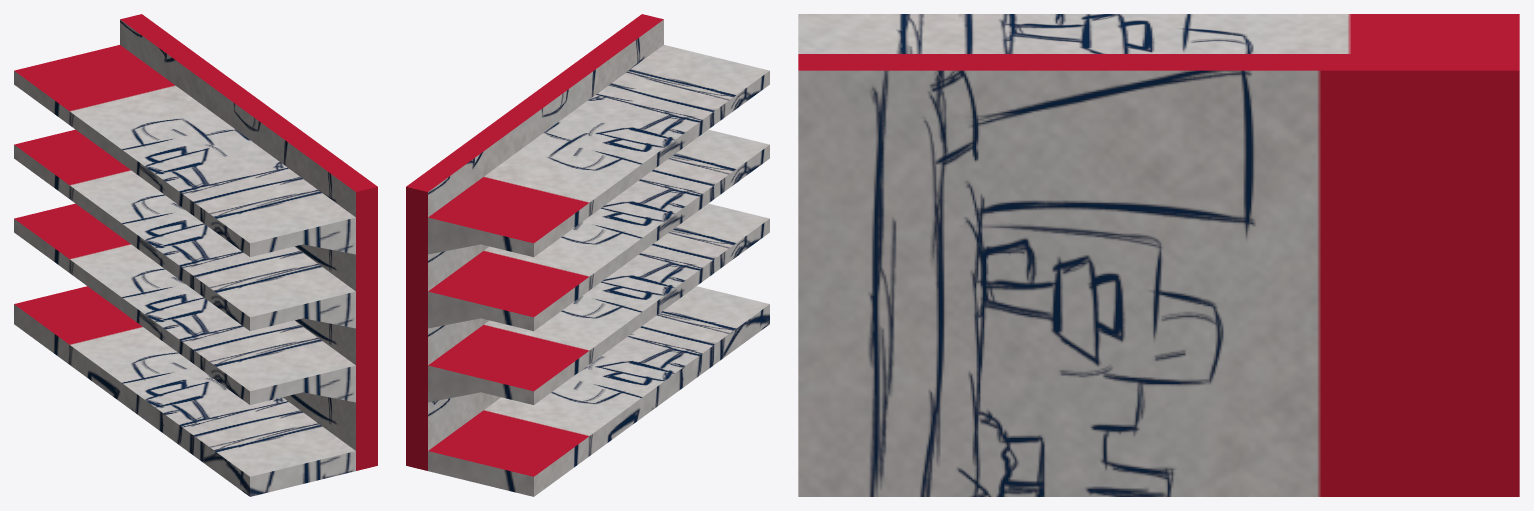
Rendered from shelf_Side.fbx.
The picture shows the model from 3 angles, left to right: view 1: azimuth 30°, elevation 25°; view 2: azimuth 150°, elevation 25°; view 3: azimuth 270°, elevation 25°; orthographic projection. The views are drawn at different scales.
Visible parts, largest first — view 1: shelf_right; view 2: shelf_right; view 3: shelf_right.
Boxes of the visible parts, box(x1,y1,x2,y2) form: shelf_right: box(14, 14, 377, 496); shelf_right: box(406, 14, 769, 496); shelf_right: box(798, 14, 1519, 496).
Size of the model in its own units: 70.22 by 146 by 224.
